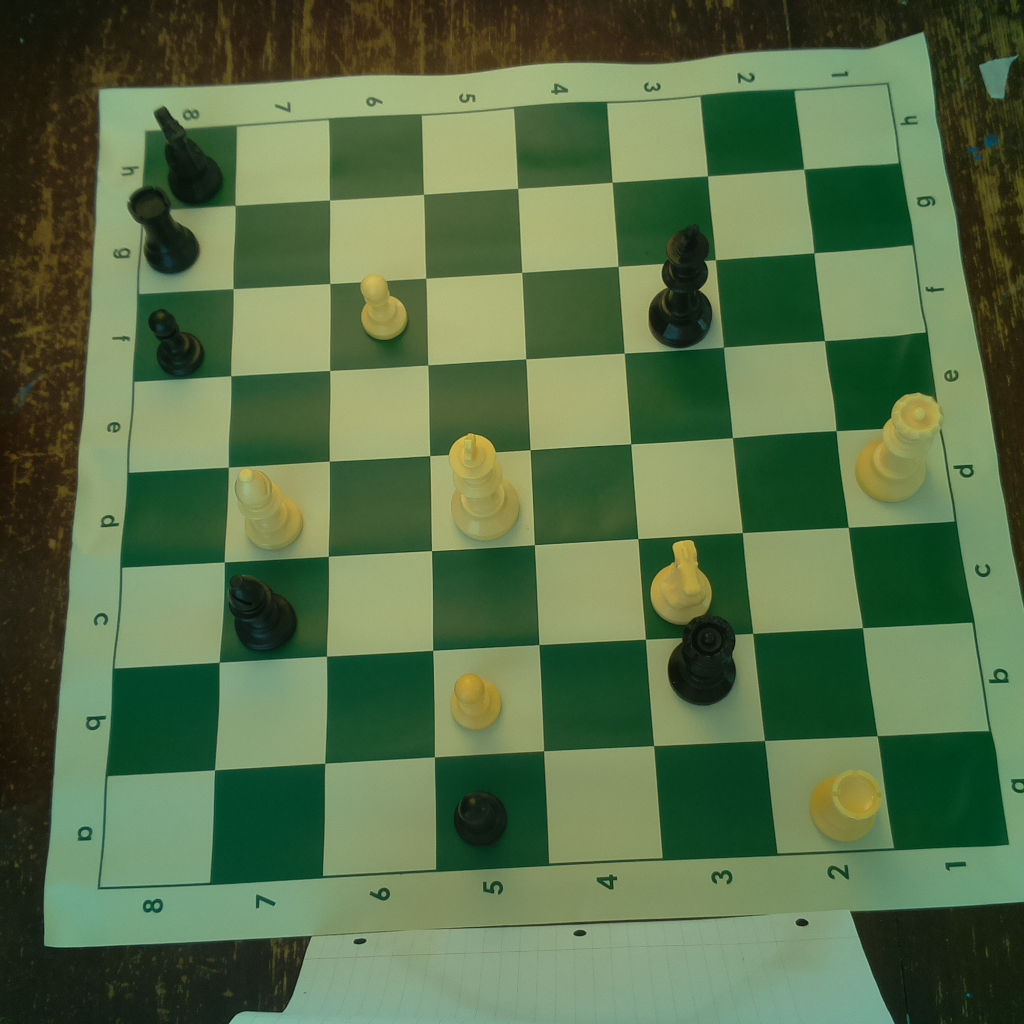black_bishop: (224, 571, 301, 654)
black_king: (644, 221, 716, 348)
black_knight: (146, 96, 225, 201)
black_pawn: (145, 304, 208, 377), (454, 784, 514, 848)
black_queen: (666, 613, 742, 706)
black_rook: (121, 180, 206, 278)
file_a: (96, 732, 1010, 890)
file_b: (105, 621, 990, 775)
file_c: (112, 522, 972, 669)
file_d: (123, 427, 957, 566)
file_e: (125, 332, 938, 471)
file_f: (137, 245, 927, 380)
file_g: (140, 165, 914, 292)
file_h: (142, 86, 903, 208)
outline: (94, 83, 1010, 888)
rank_1: (794, 82, 1007, 849)
rank_2: (702, 88, 894, 854)
rank_3: (607, 96, 780, 862)
rank_4: (515, 101, 663, 867)
rank_5: (421, 109, 550, 871)
rank_6: (321, 114, 437, 871)
rank_7: (208, 118, 331, 879)
rank_8: (97, 123, 236, 888)
white_bishop: (225, 465, 307, 551)
white_king: (440, 428, 523, 541)
white_knight: (642, 534, 715, 625)
white_pawn: (446, 669, 506, 734), (357, 270, 410, 340)
white_queen: (855, 390, 941, 502)
white_rook: (807, 765, 883, 840)
